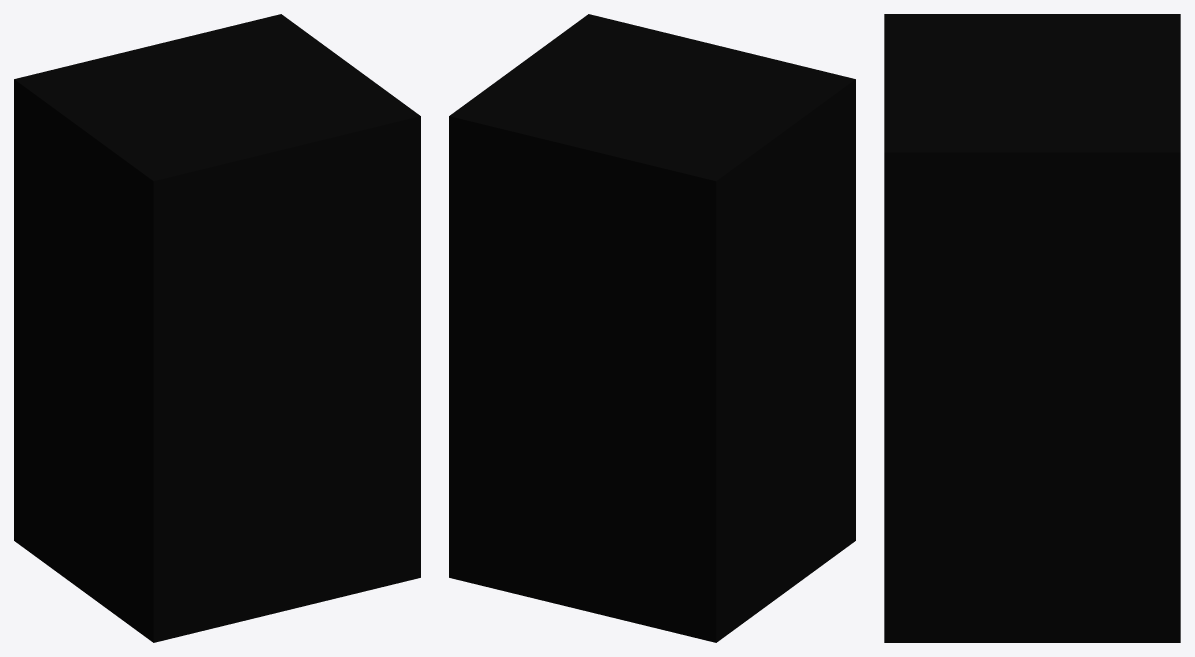
File: the_panopticon.glb
3 views of the same model, side by side, from view 1: azimuth 30°, elevation 25°; view 2: azimuth 150°, elevation 25°; view 3: azimuth 270°, elevation 25° (orthographic). The views are drawn at different scales.
Visible parts, largest first — view 1: void box; view 2: void box; view 3: void box.
Boxes of the visible parts, x1,y1,x2,y2 form: void box: (14,14,420,642); void box: (449,14,855,642); void box: (884,14,1180,642).
Size of the model in its own units: 89.92 by 148 by 81.32.
6 materials, 6 textured.
